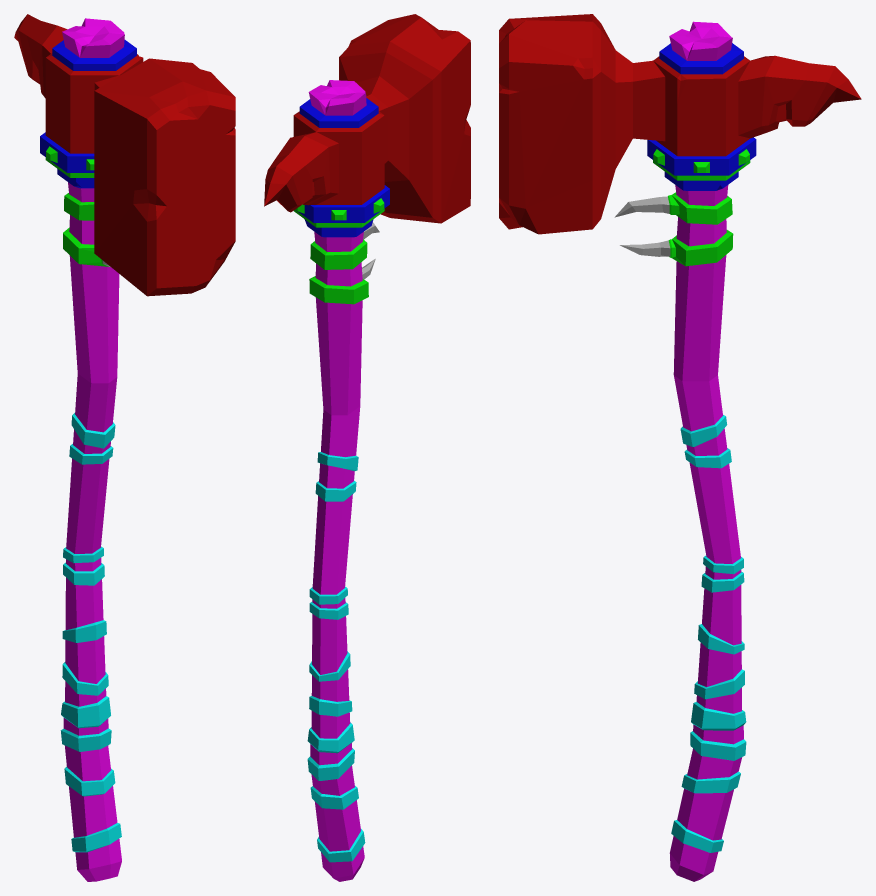
The model's file is Greathammer_Legendary_Brutish.fbx.
3 renders of one model, left to right at view 1: azimuth 30°, elevation 25°; view 2: azimuth 150°, elevation 25°; view 3: azimuth 270°, elevation 25°, orthographic. The views are drawn at different scales.
Visible parts, largest first — view 1: SM_Wep_BigOrk_01; view 2: SM_Wep_BigOrk_01; view 3: SM_Wep_BigOrk_01.
Boxes of the visible parts, bbox=[...] form: SM_Wep_BigOrk_01: bbox=[14, 14, 235, 881]; SM_Wep_BigOrk_01: bbox=[264, 14, 470, 881]; SM_Wep_BigOrk_01: bbox=[499, 14, 861, 881].
Size of the model in its own units: 21.6 by 162 by 62.09.
